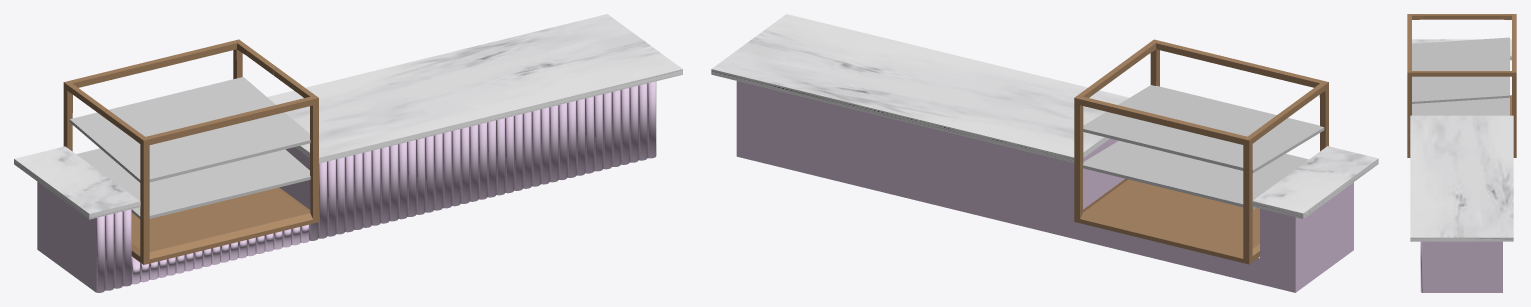
Rendered from counterWithPastries.fbx.
The picture shows the model from 3 angles, left to right: view 1: azimuth 30°, elevation 25°; view 2: azimuth 150°, elevation 25°; view 3: azimuth 270°, elevation 25°; orthographic projection. The views are drawn at different scales.
Visible parts, largest first — view 1: counter, base.002, case.001, top shelf, middle shelf, base, base.001; view 2: counter, base.002, case.001, top shelf, base, middle shelf, base.001; view 3: counter, top shelf, base.002, case.001, middle shelf.
Boxes of the visible parts, bbox=[...] form: counter: bbox=[14, 14, 682, 219]; base.002: bbox=[279, 81, 656, 240]; case.001: bbox=[63, 39, 318, 264]; top shelf: bbox=[69, 77, 310, 182]; middle shelf: bbox=[76, 148, 310, 218]; base: bbox=[37, 181, 131, 292]; base.001: bbox=[131, 224, 309, 284]; counter: bbox=[711, 14, 1378, 218]; base.002: bbox=[736, 81, 1124, 240]; case.001: bbox=[1074, 39, 1328, 264]; top shelf: bbox=[1083, 85, 1324, 172]; base: bbox=[1260, 182, 1353, 292]; middle shelf: bbox=[1083, 140, 1308, 209]; base.001: bbox=[1082, 224, 1260, 284]; counter: bbox=[1410, 39, 1513, 241]; top shelf: bbox=[1412, 37, 1509, 103]; base.002: bbox=[1420, 241, 1502, 292]; case.001: bbox=[1407, 14, 1516, 157]; middle shelf: bbox=[1412, 97, 1509, 115].
Size of the model in its own units: 5213 by 1270 by 1217.
